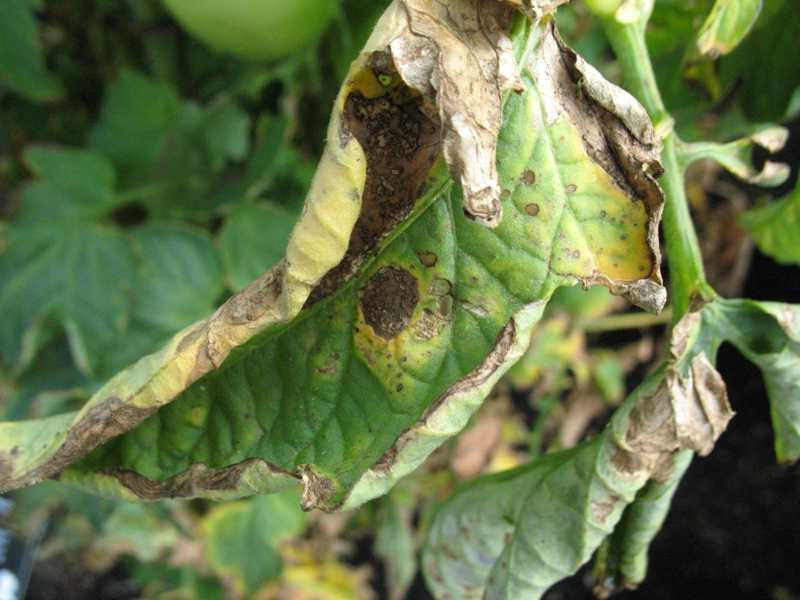Tomato Early blight leaf: (0, 6, 677, 496)
